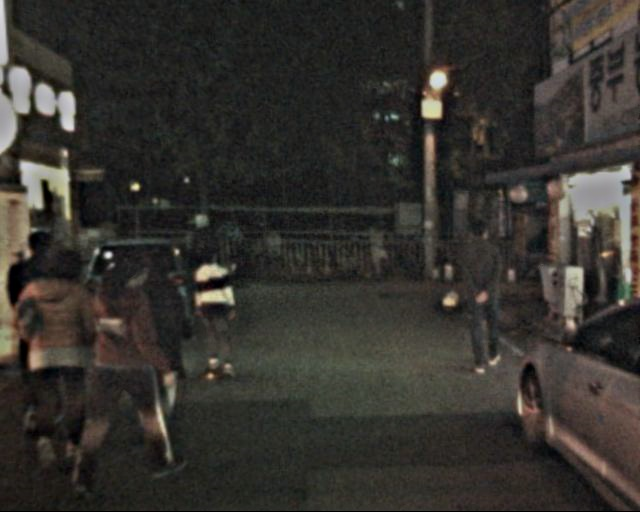person: (20, 240, 119, 468), (88, 243, 179, 490), (117, 238, 200, 454), (457, 212, 515, 377), (192, 237, 243, 384)
